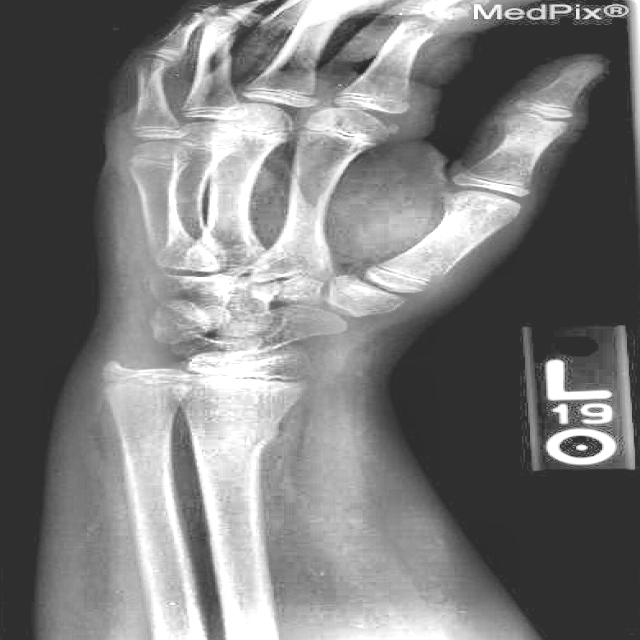fracture: (123, 375, 177, 386), (302, 123, 333, 136), (213, 124, 250, 134)
